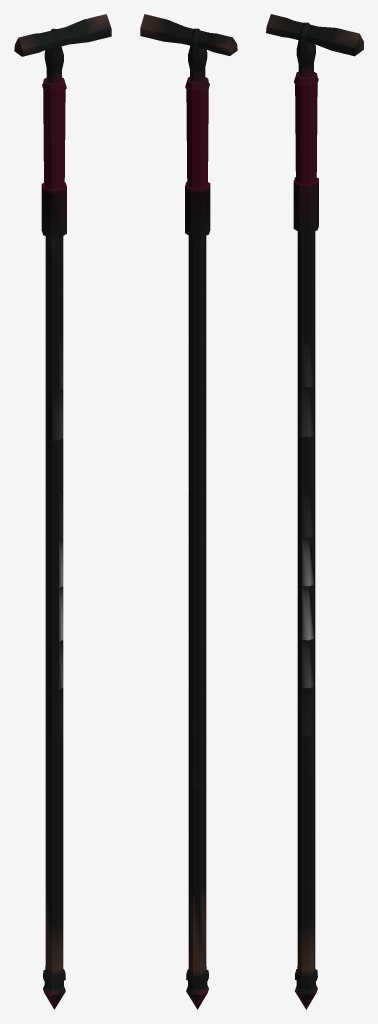
File: Threaded Cane.fbx
The picture shows the model from 3 angles, left to right: view 1: azimuth 30°, elevation 25°; view 2: azimuth 150°, elevation 25°; view 3: azimuth 330°, elevation 25°; orthographic projection.
Parts seen in each view (by area): view 1: Threaded Cane; view 2: Threaded Cane; view 3: Threaded Cane.
Part boxes in pixels (x1,y1,x2,y2): Threaded Cane: (14, 14, 111, 1009); Threaded Cane: (140, 14, 237, 1009); Threaded Cane: (266, 14, 363, 1009).
Size of the model in its own units: 11.02 by 116 by 2.79.
